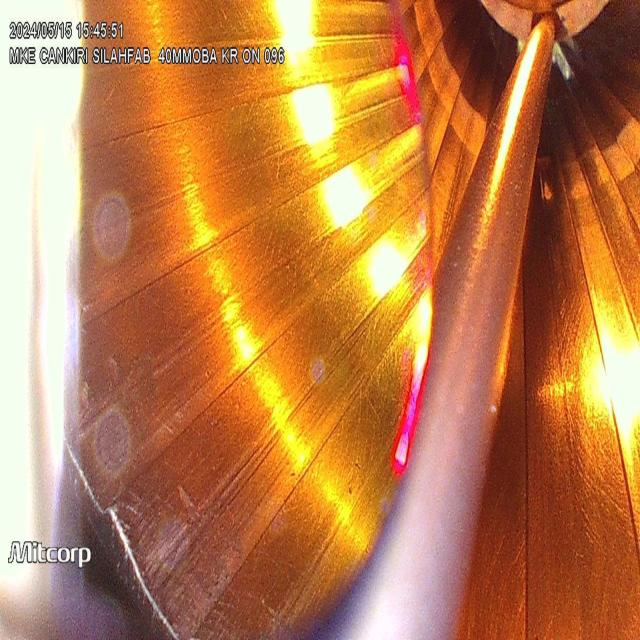hata_8.1: (245, 328, 358, 452)
